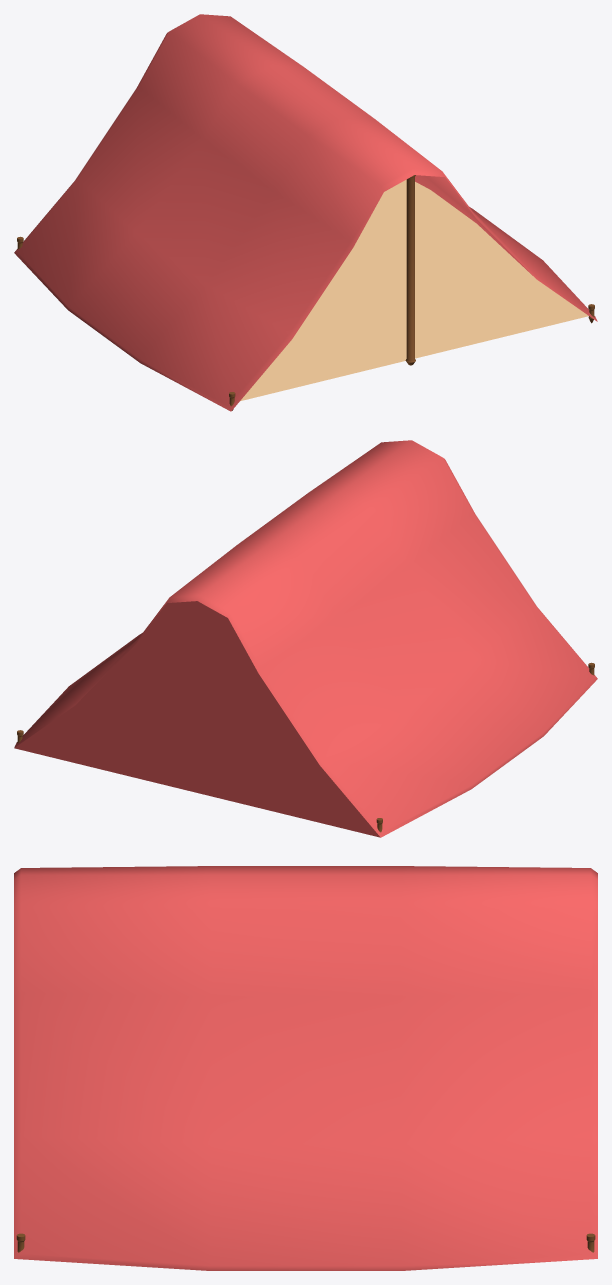
The model's file is tent.fbx.
3 views of the same model, one above another, from view 1: azimuth 30°, elevation 25°; view 2: azimuth 150°, elevation 25°; view 3: azimuth 270°, elevation 25° (orthographic). The views are drawn at different scales.
Visible parts, largest first — view 1: Tent; view 2: Tent; view 3: Tent.
Part boxes in pixels (x1,y1,x2,y2): Tent: (14, 14, 597, 411); Tent: (14, 440, 597, 837); Tent: (14, 866, 597, 1270).
Bounding box in the file's own units: 5.5 × 2.57 × 5.12.
